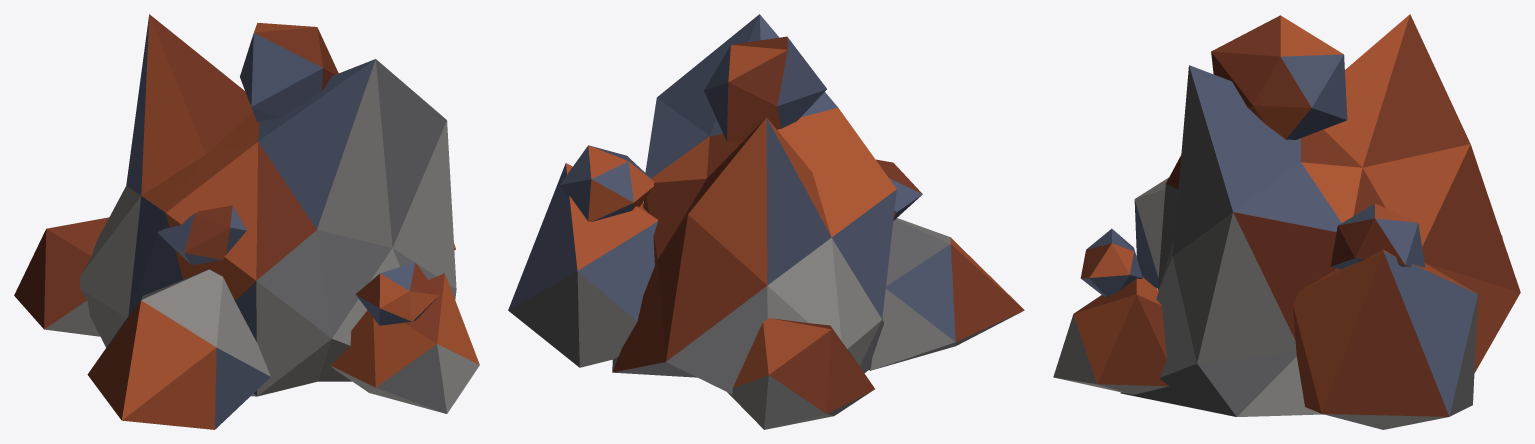
The model's file is iron_ore_c.obj.
3 views of the same model, side by side, from view 1: azimuth 30°, elevation 25°; view 2: azimuth 150°, elevation 25°; view 3: azimuth 270°, elevation 25° (orthographic). The views are drawn at different scales.
Size of the model in its own units: 1.21 by 0.8648 by 1.14.
